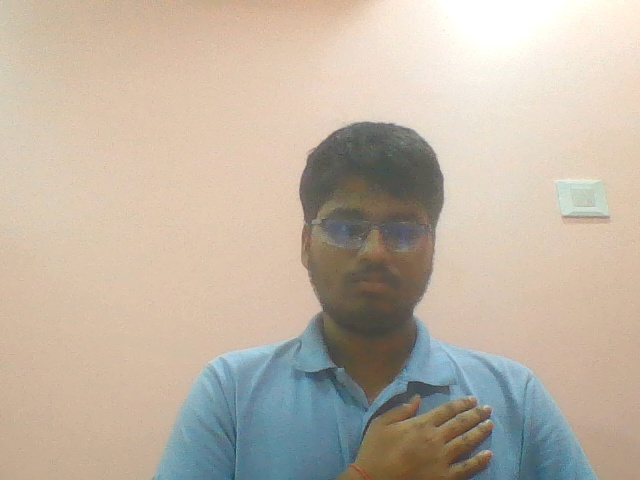please: (341, 384, 523, 480)
